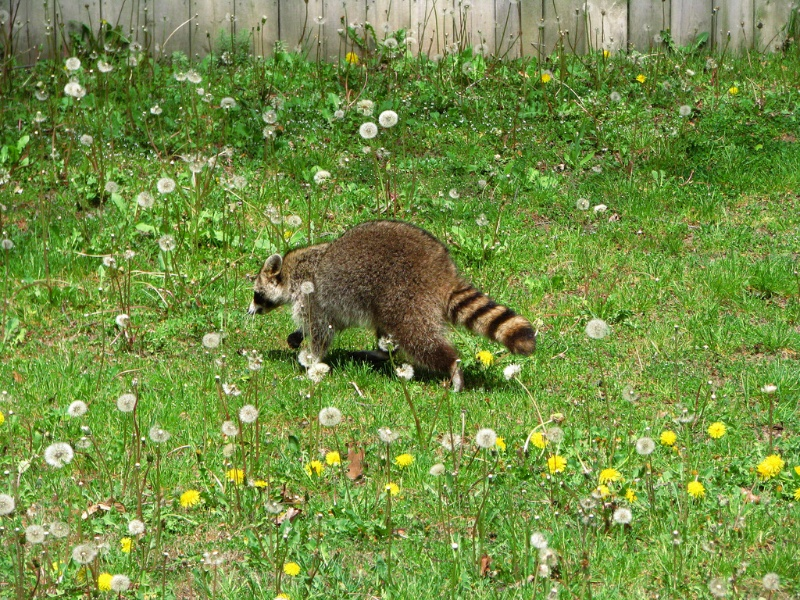raccoon: (252, 220, 536, 387)
